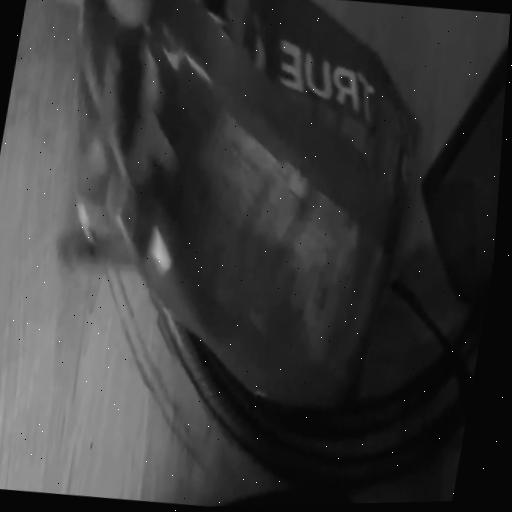cafe_xay: (62, 0, 416, 406)
